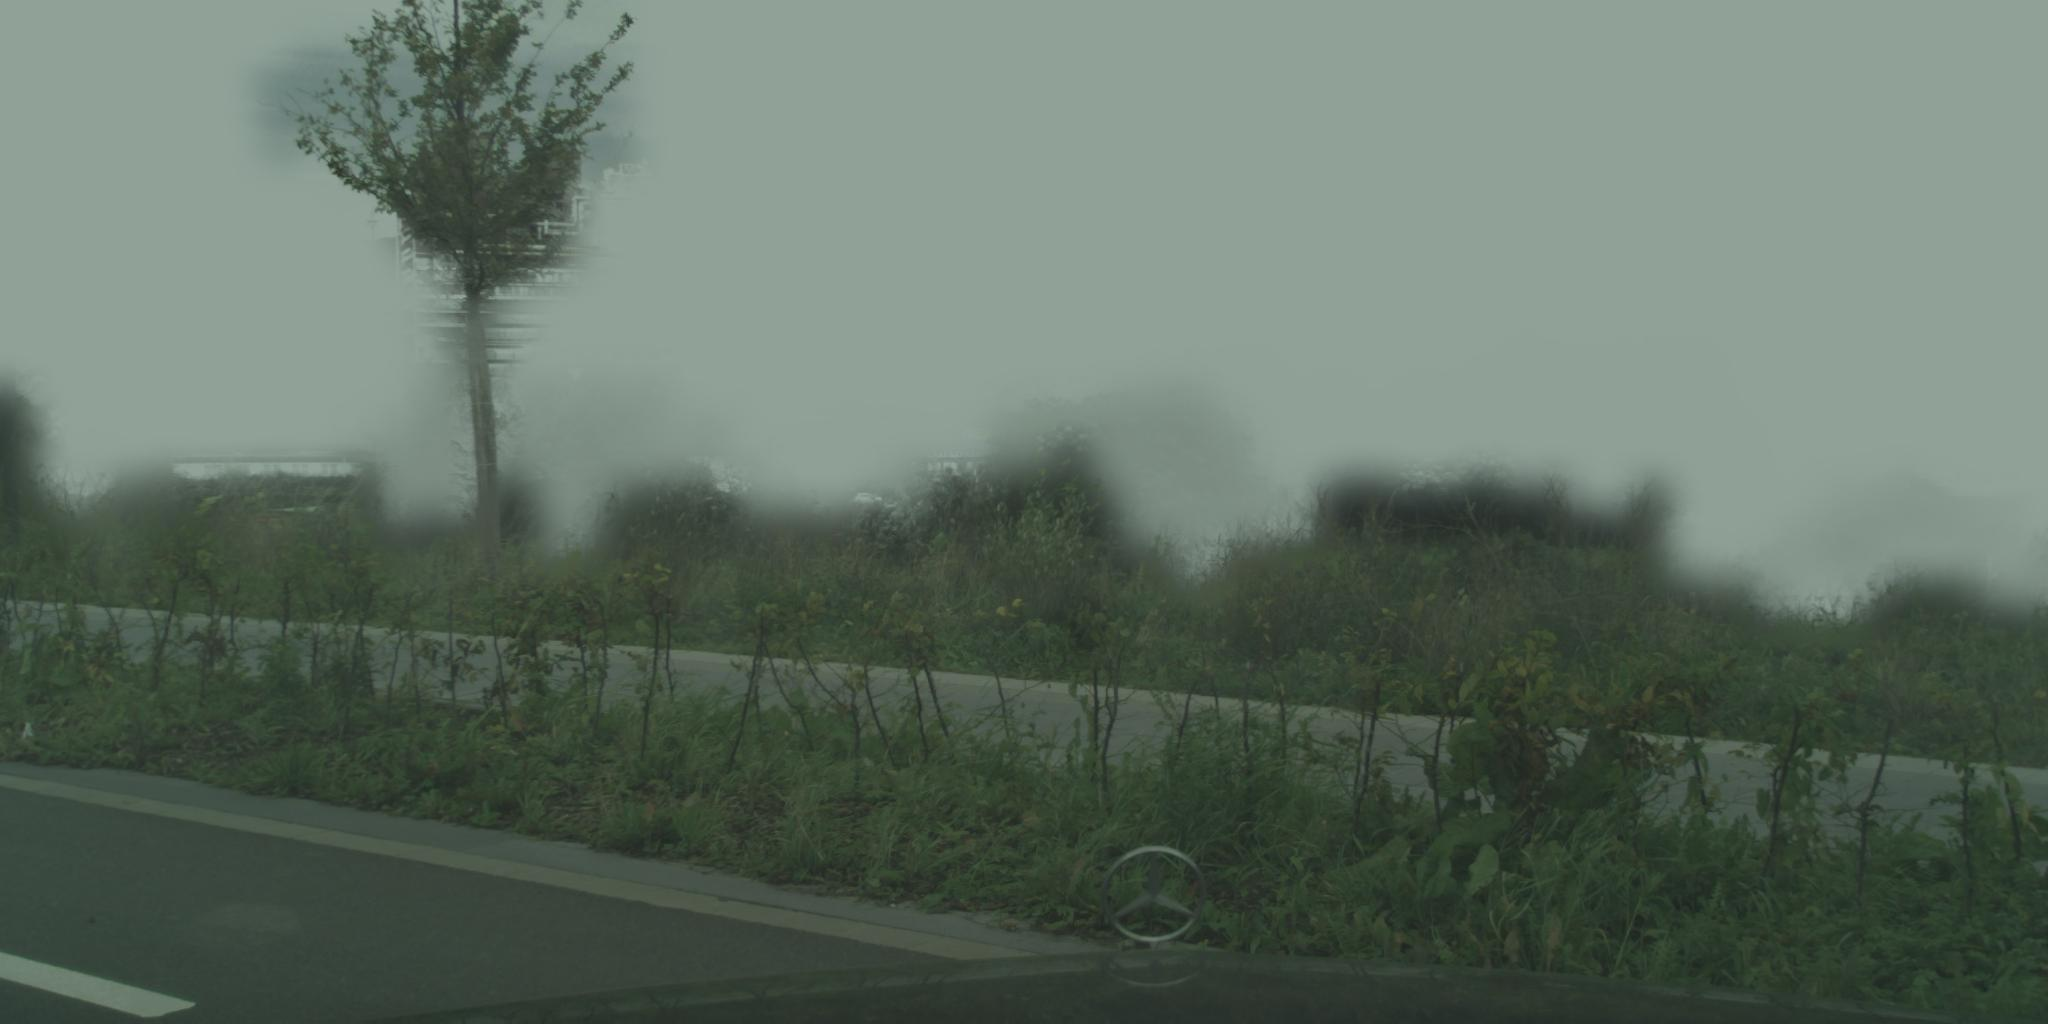car: (846, 492, 883, 503), (852, 494, 882, 503), (852, 492, 882, 502)
truck: (1, 274, 2048, 708)
